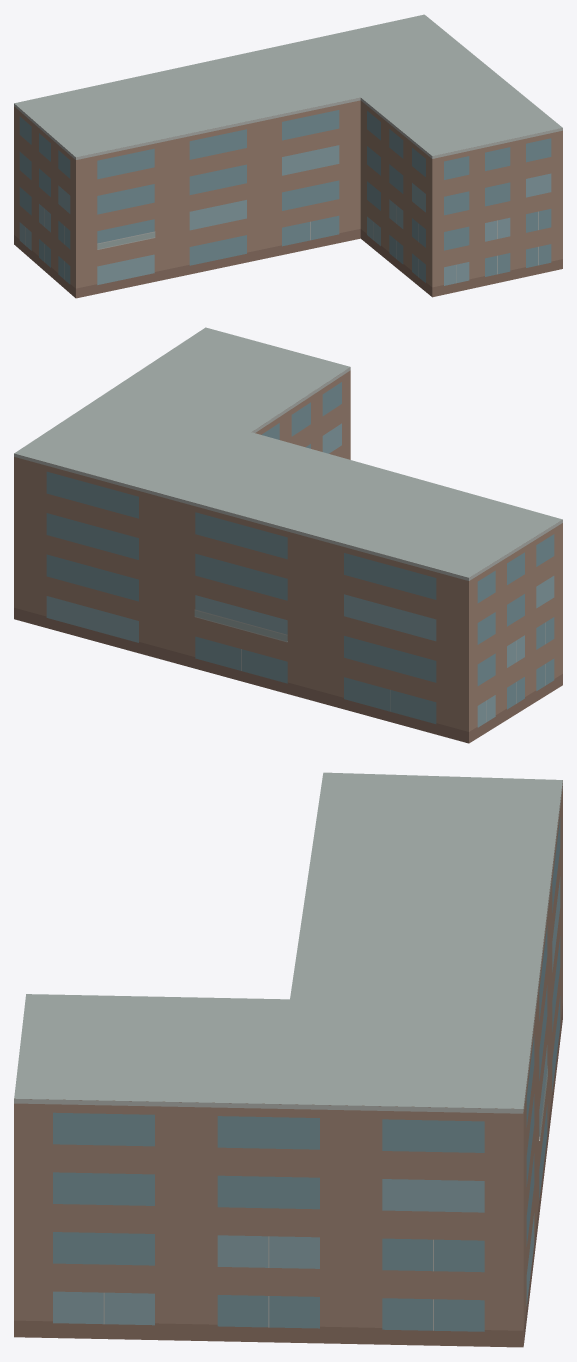
The model's file is residential-a79d3bab-3b0d-4e01-b884-7c74ba1fa82d.glb.
The picture shows the model from 3 angles, top to bottom: view 1: azimuth 30°, elevation 25°; view 2: azimuth 150°, elevation 25°; view 3: azimuth 270°, elevation 25°; orthographic projection. The views are drawn at different scales.
Visible parts, largest first — view 1: residential-a79d3bab-3b0d-4e01-b884-7c74ba1fa82d.tmp; view 2: residential-a79d3bab-3b0d-4e01-b884-7c74ba1fa82d.tmp; view 3: residential-a79d3bab-3b0d-4e01-b884-7c74ba1fa82d.tmp.
Boxes of the visible parts, x1,y1,x2,y2 form: residential-a79d3bab-3b0d-4e01-b884-7c74ba1fa82d.tmp: (14,14,562,298); residential-a79d3bab-3b0d-4e01-b884-7c74ba1fa82d.tmp: (14,327,562,743); residential-a79d3bab-3b0d-4e01-b884-7c74ba1fa82d.tmp: (14,772,562,1347).
Bounding box in the file's own units: 36.93 × 12.2 × 25.46.
